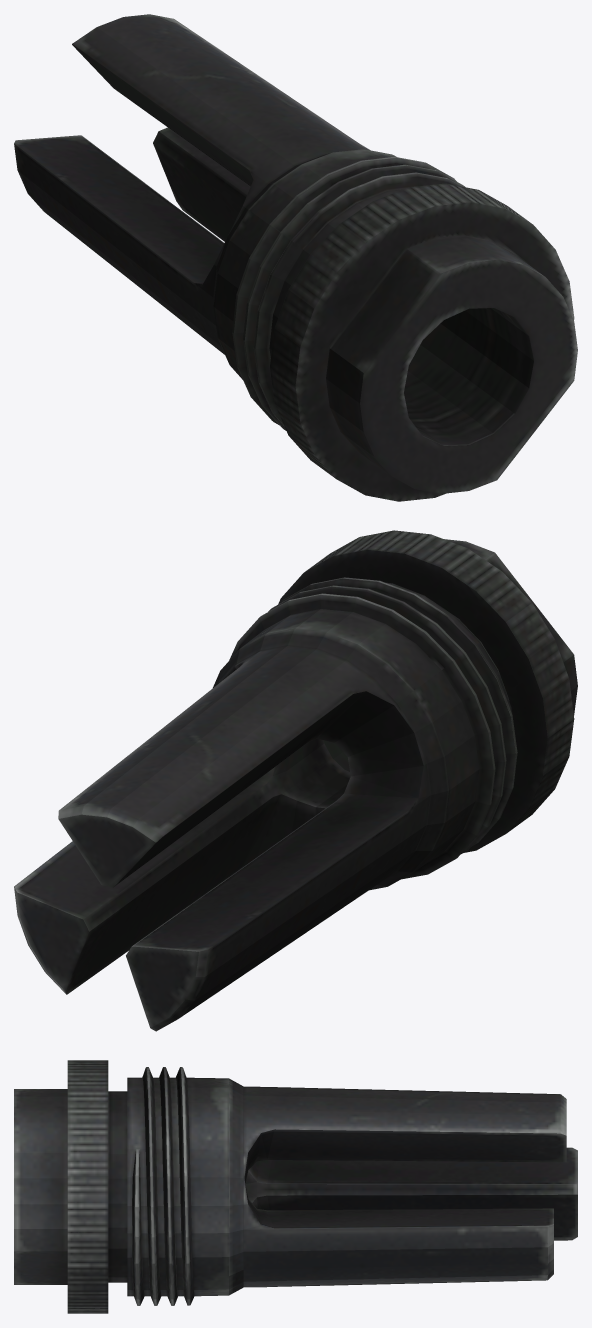
The picture shows the model from 3 angles, top to bottom: view 1: azimuth 30°, elevation 25°; view 2: azimuth 150°, elevation 25°; view 3: azimuth 270°, elevation 25°; orthographic projection. The views are drawn at different scales.
Parts seen in each view (by area): view 1: TW_609269c3b0e443224b421cc1_PZ_Import; view 2: TW_609269c3b0e443224b421cc1_PZ_Import; view 3: TW_609269c3b0e443224b421cc1_PZ_Import.
Boxes of the visible parts, x1=… form: TW_609269c3b0e443224b421cc1_PZ_Import: x1=14, y1=14, x2=577, y2=501; TW_609269c3b0e443224b421cc1_PZ_Import: x1=14, y1=530, x2=577, y2=1031; TW_609269c3b0e443224b421cc1_PZ_Import: x1=14, y1=1060, x2=577, y2=1313.
Size of the model in its own units: 0.016 by 0.0353 by 0.016.
1 material, 1 textured.
